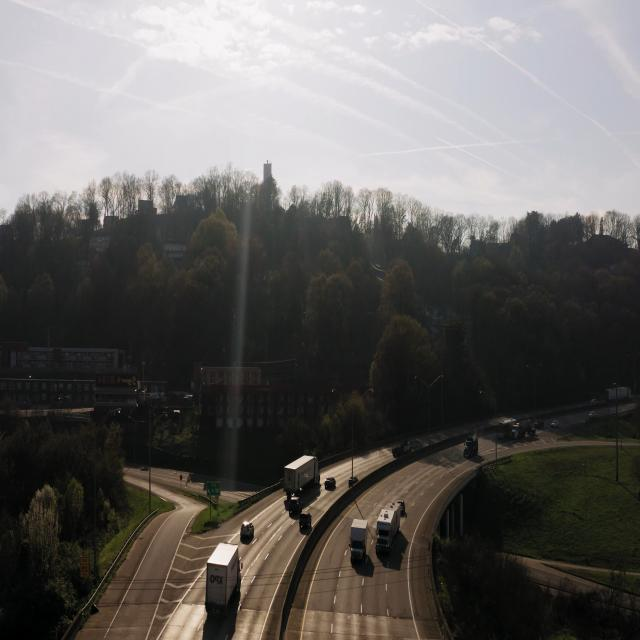Vehicle: (203, 542, 242, 618), (283, 452, 321, 506), (374, 502, 400, 560), (348, 516, 369, 566), (297, 509, 313, 537), (238, 519, 255, 545)
